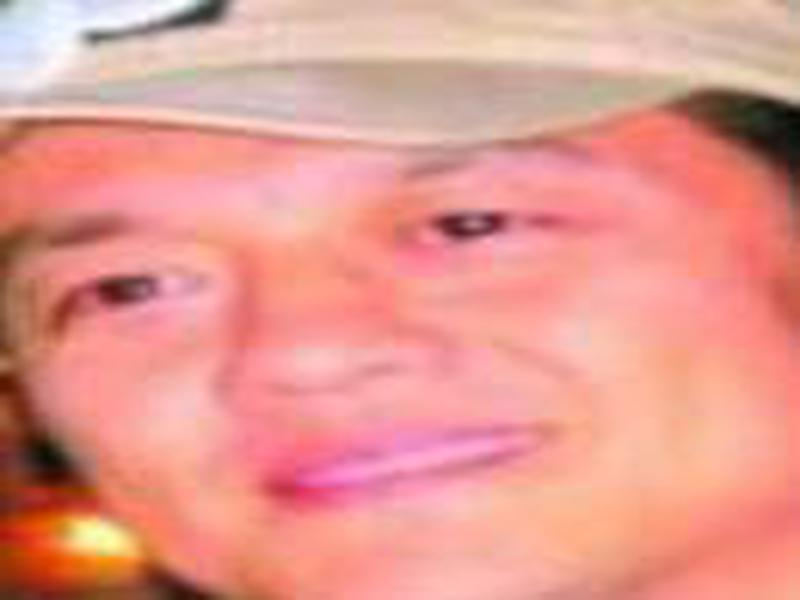without_mask: (1, 123, 795, 597)
